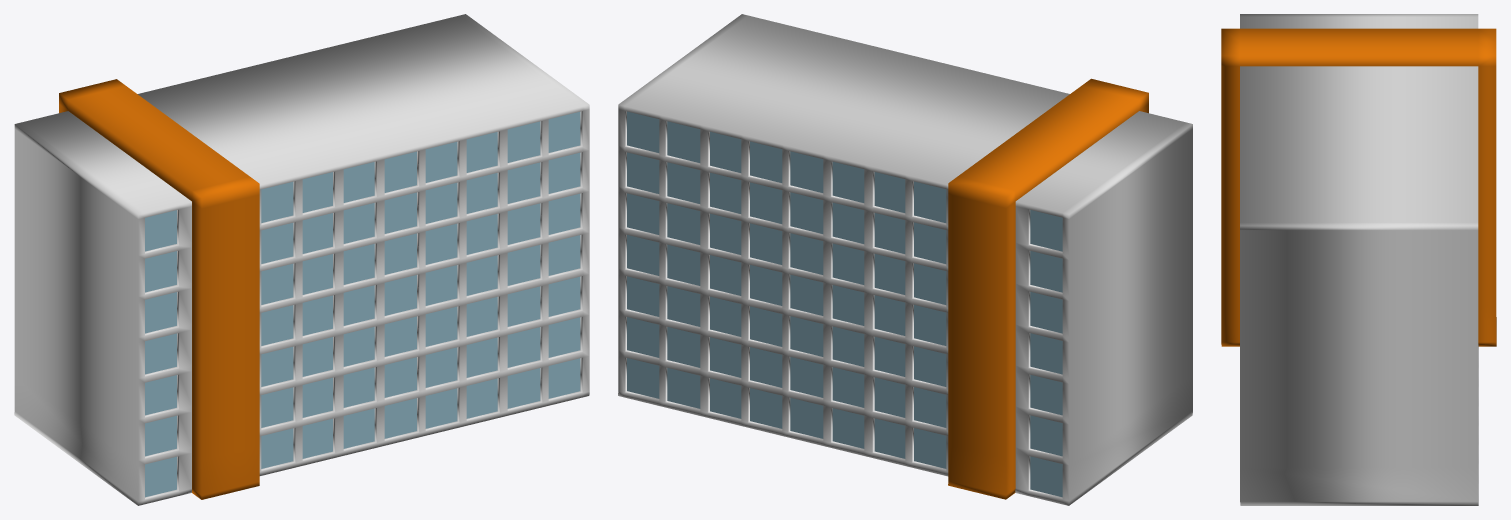
The model's file is small_building_orange.fbx.
The picture shows the model from 3 angles, left to right: view 1: azimuth 30°, elevation 25°; view 2: azimuth 150°, elevation 25°; view 3: azimuth 270°, elevation 25°; orthographic projection. The views are drawn at different scales.
Parts seen in each view (by area): view 1: Cube, Cube_001, Cube_002; view 2: Cube, Cube_001, Cube_002; view 3: Cube, Cube_002.
Part boxes in pixels (x1,y1,x2,y2): Cube: (14, 14, 589, 505); Cube_001: (145, 112, 580, 497); Cube_002: (59, 79, 259, 499); Cube: (618, 14, 1192, 505); Cube_001: (627, 111, 1062, 497); Cube_002: (948, 78, 1148, 499); Cube: (1240, 14, 1478, 505); Cube_002: (1221, 28, 1496, 346).
Bounding box in the file's own units: 33 × 21.13 × 18.14.
